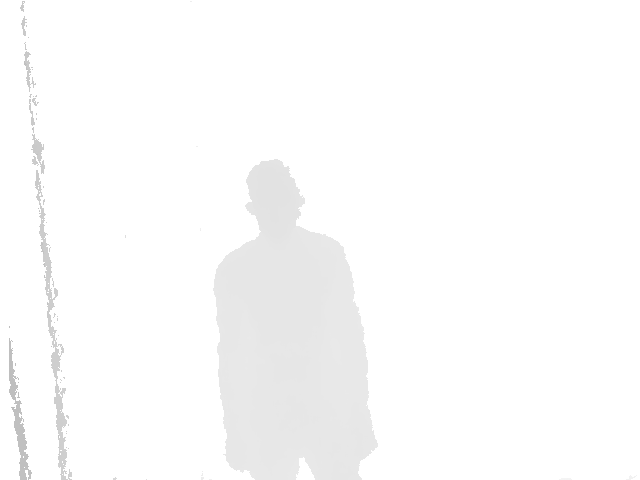head: (246, 160, 306, 235)
person: (211, 160, 380, 480)
